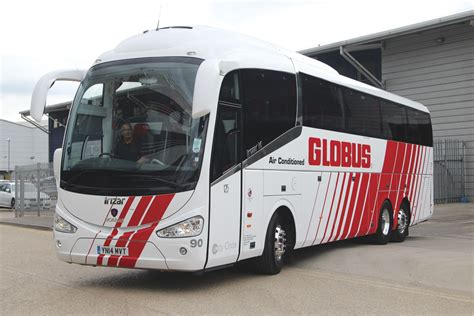bus: (49, 32, 435, 266)
person: (115, 121, 146, 161)
